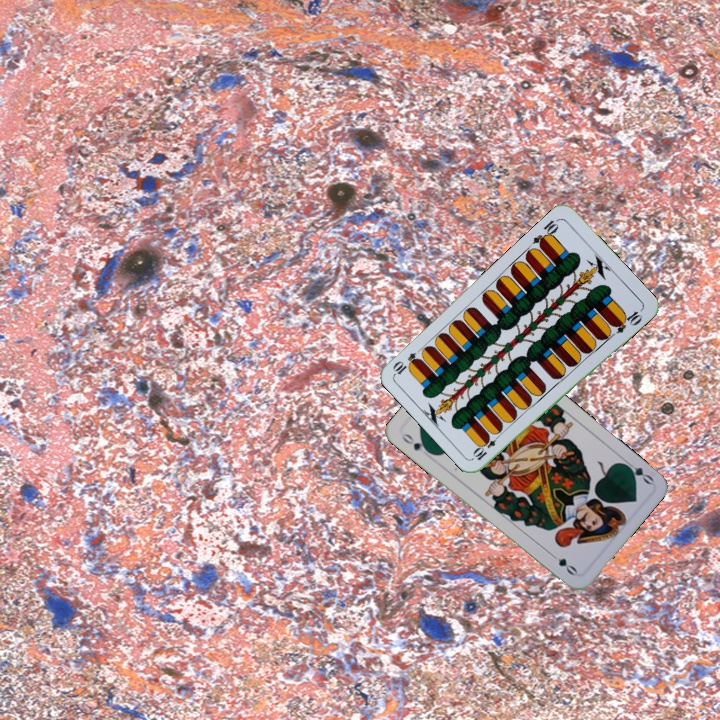E10: (529, 215, 562, 250), (470, 429, 503, 463)
GO: (619, 456, 656, 487), (397, 429, 434, 456)
